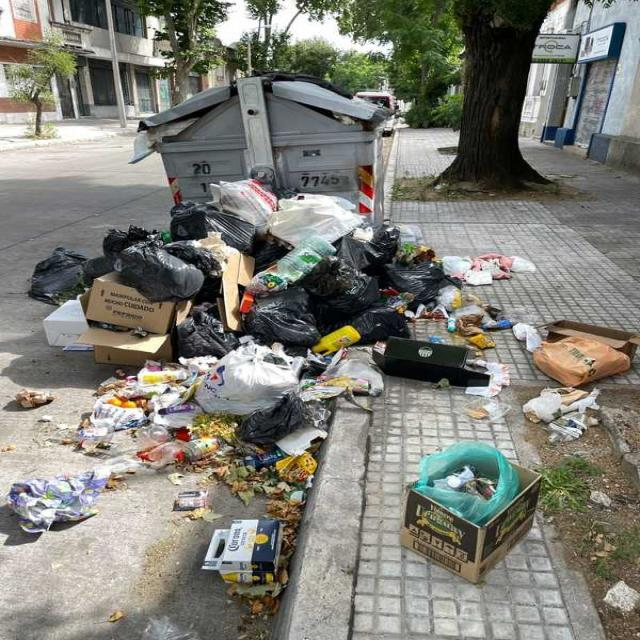garbage: (0, 182, 531, 416), (390, 434, 552, 588), (518, 314, 640, 446), (24, 417, 334, 463), (0, 457, 123, 546), (190, 509, 296, 599)
